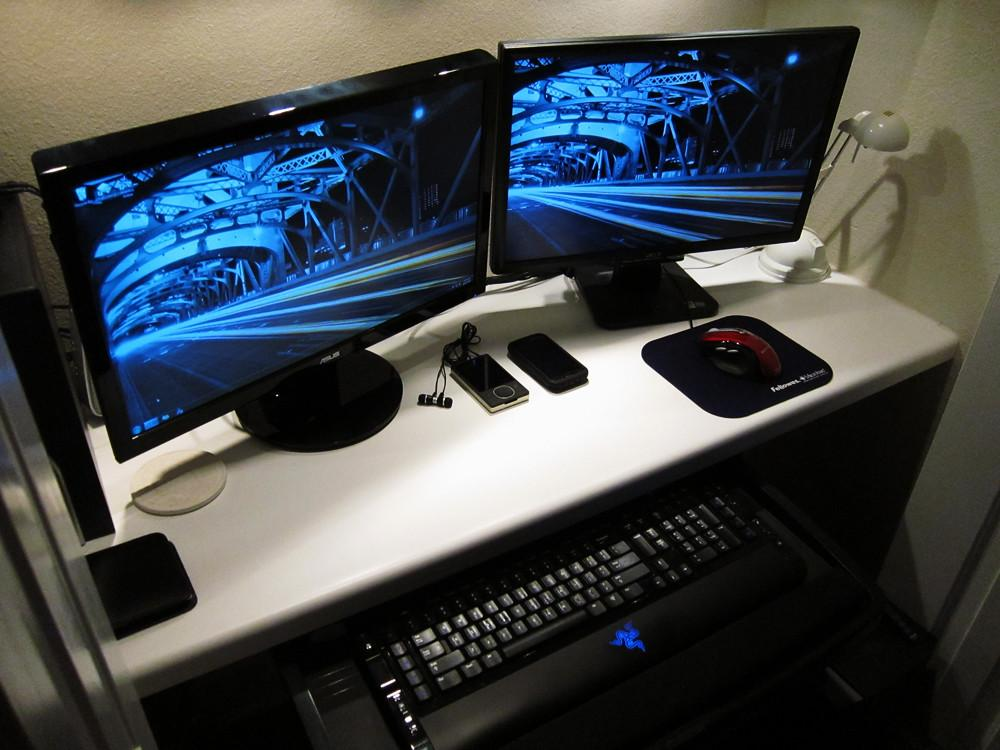computer: (31, 47, 502, 462), (489, 25, 861, 330)
